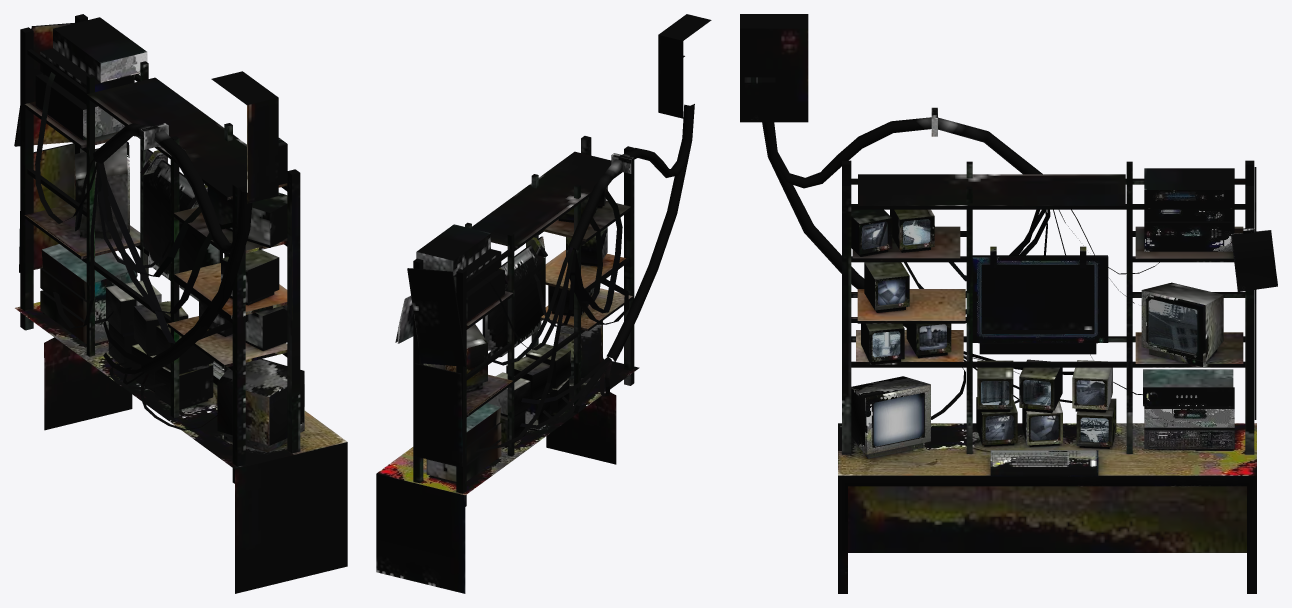
Rendered from securitybank.glb.
3 renders of one model, left to right at view 1: azimuth 30°, elevation 25°; view 2: azimuth 150°, elevation 25°; view 3: azimuth 270°, elevation 25°, orthographic. The views are drawn at different scales.
Parts seen in each view (by area): view 1: 0_security_sheet; view 2: 0_security_sheet; view 3: 0_security_sheet, 1_security_screens2, 2_security_screens.
Boxes of the visible parts, left/top/right/bottom form: 0_security_sheet: left=14, top=14, right=347, bottom=593; 0_security_sheet: left=376, top=14, right=711, bottom=593; 0_security_sheet: left=740, top=14, right=1277, bottom=593; 1_security_screens2: left=862, top=221, right=1104, bottom=446; 2_security_screens: left=872, top=219, right=1197, bottom=442.
Size of the model in its own units: 1.14 by 3.69 by 3.53.
3 materials, 3 textured.
